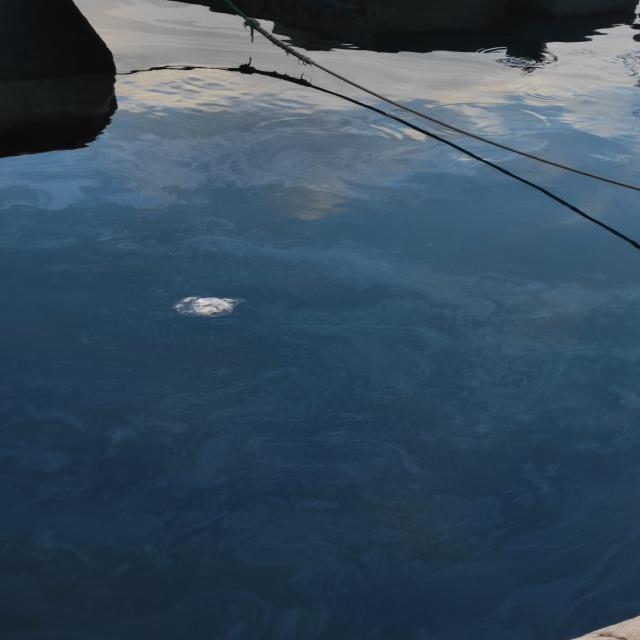Plastic bag: (170, 295, 248, 318)
